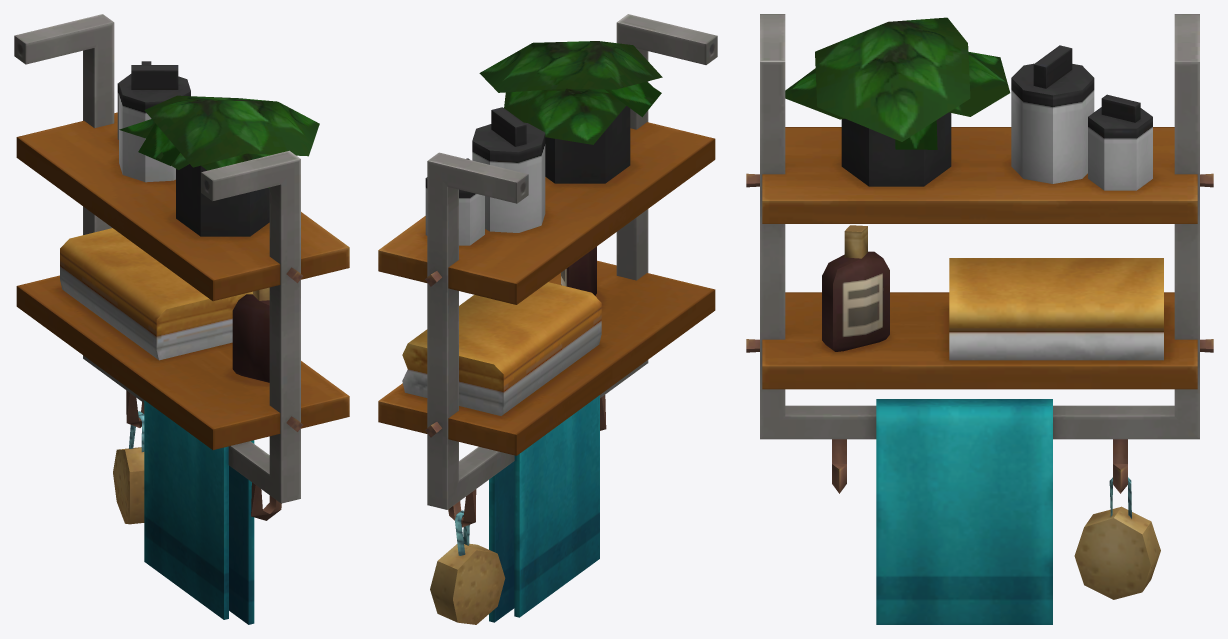
The model's file is 分层置物架.glb.
3 views of the same model, side by side, from view 1: azimuth 30°, elevation 25°; view 2: azimuth 150°, elevation 25°; view 3: azimuth 270°, elevation 25° (orthographic). The views are drawn at different scales.
Visible parts, largest first — view 1: TinyLiving_TieredShelf_29, s4studio_mesh_1.003_28; view 2: TinyLiving_TieredShelf_29, s4studio_mesh_1.003_28; view 3: TinyLiving_TieredShelf_29, s4studio_mesh_1.003_28.
Boxes of the visible parts, x1=… form: TinyLiving_TieredShelf_29: x1=14, y1=14, x2=349, y2=624; s4studio_mesh_1.003_28: x1=119, y1=95, x2=319, y2=520; TinyLiving_TieredShelf_29: x1=378, y1=14, x2=717, y2=624; s4studio_mesh_1.003_28: x1=448, y1=41, x2=662, y2=555; TinyLiving_TieredShelf_29: x1=746, y1=14, x2=1213, y2=624; s4studio_mesh_1.003_28: x1=785, y1=17, x2=1131, y2=518.
Bounding box in the file's own units: 0.3679 × 1.08 × 0.7826.
1 material, 1 textured.
